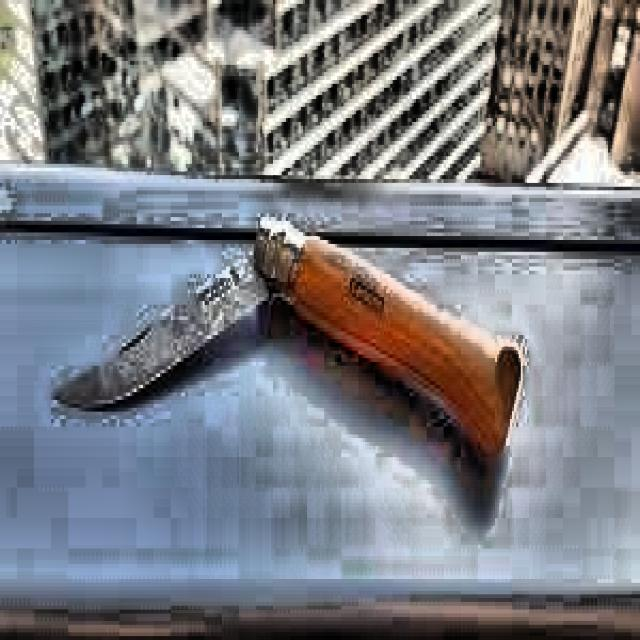knife: (54, 219, 524, 457)
